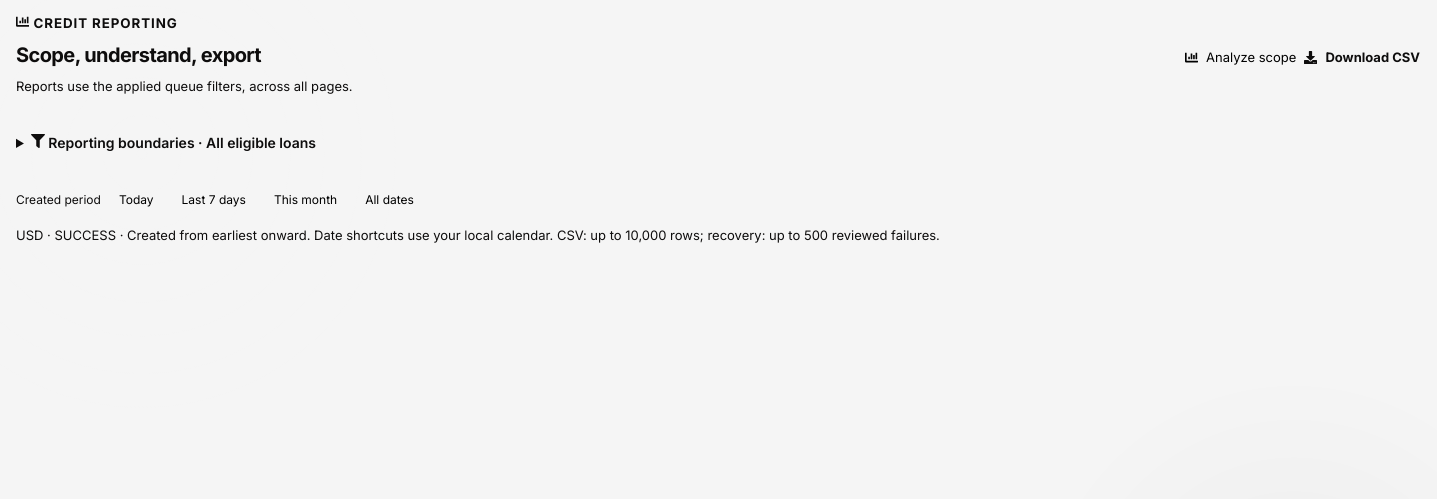
analytics uses current filters and old results disappear when scope changes
Step 1. Click the button "Analyze scope" → coordinates (1241, 57), box [1185,47,1296,68]
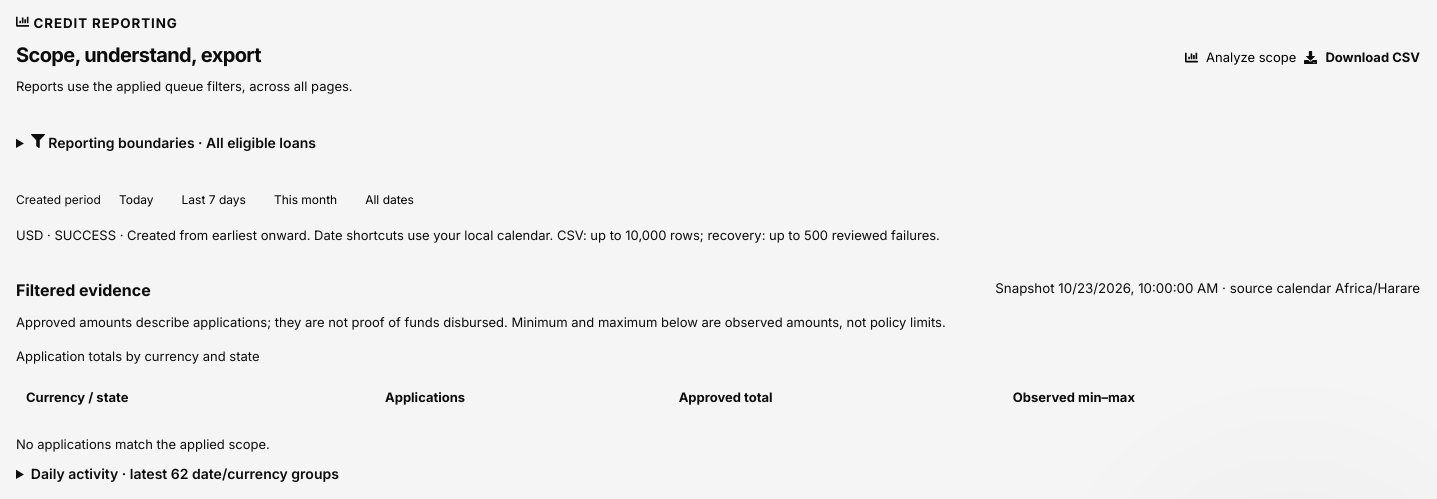
Expected: the text "Filtered evidence" is shown, [16,278,151,304]
